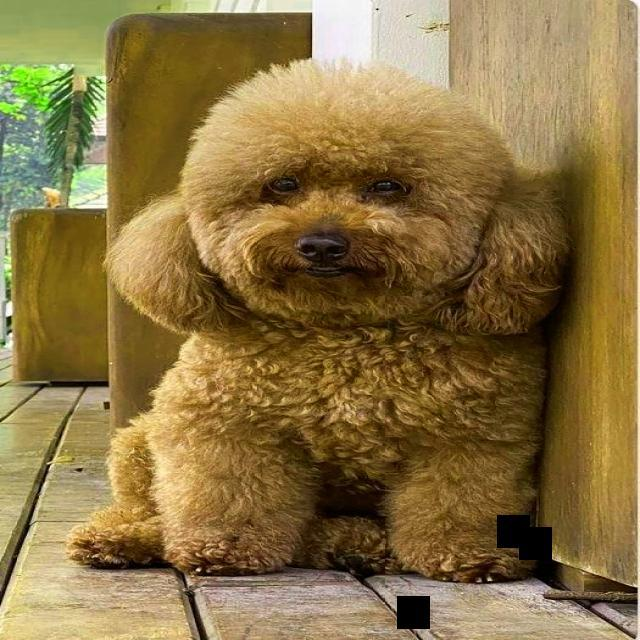adult_dog: (64, 55, 567, 584)
